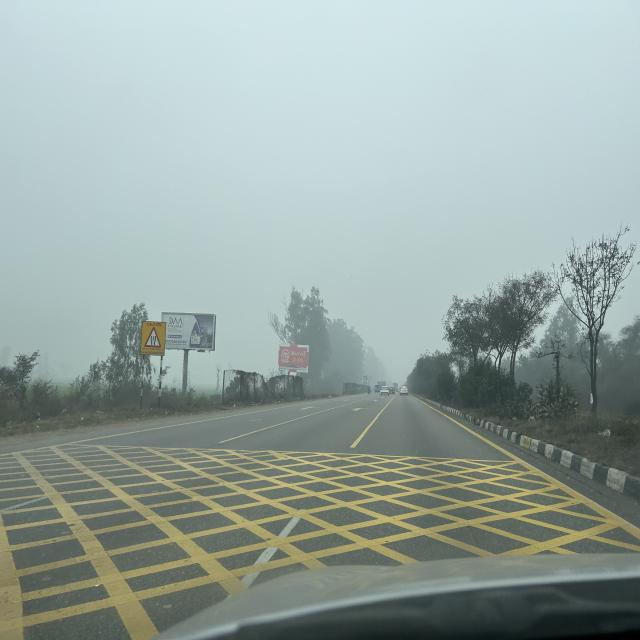ROAD_WIDENS_AHEAD: (144, 326, 162, 348)
